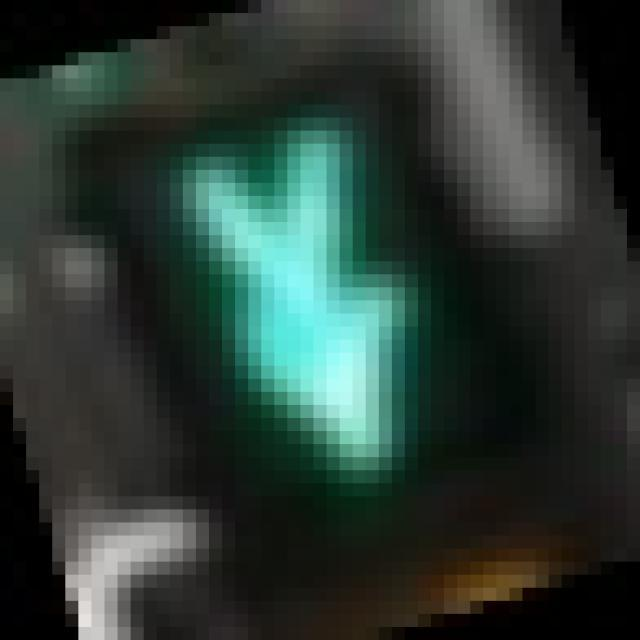geen-crossing: (79, 39, 522, 549)
